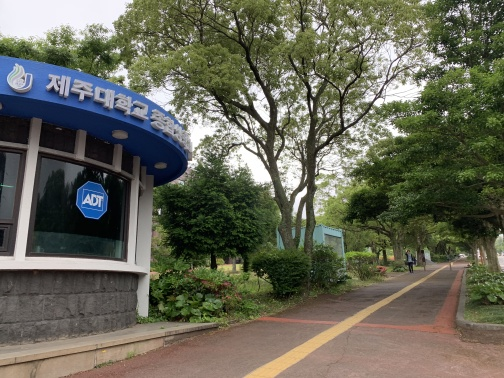Security Office: (1, 53, 217, 372), (3, 57, 203, 178)
